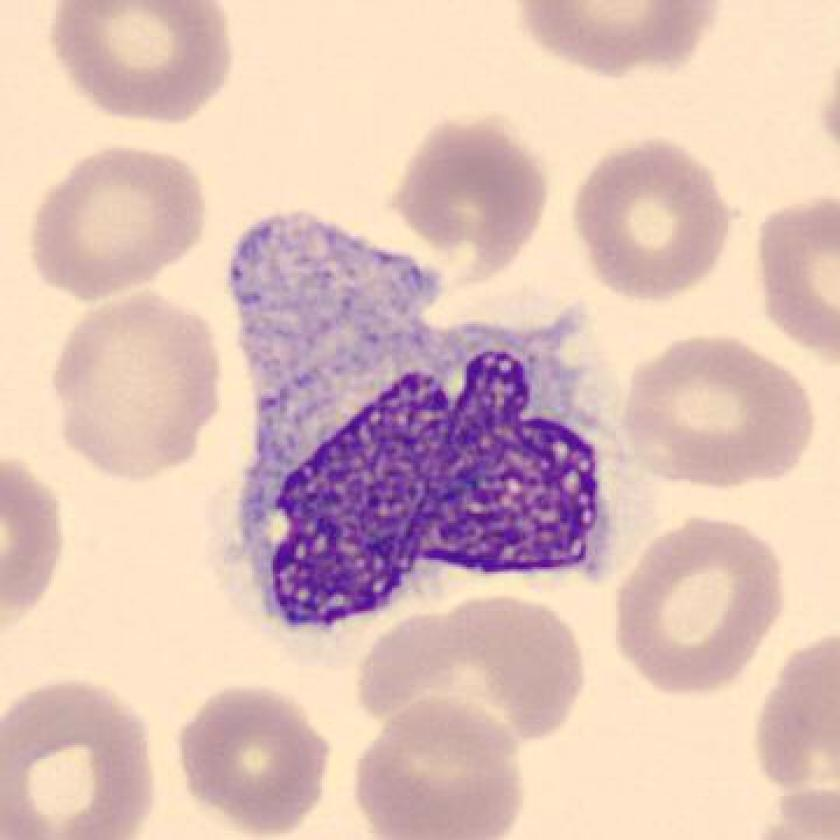monocyte: (207, 202, 648, 672)
